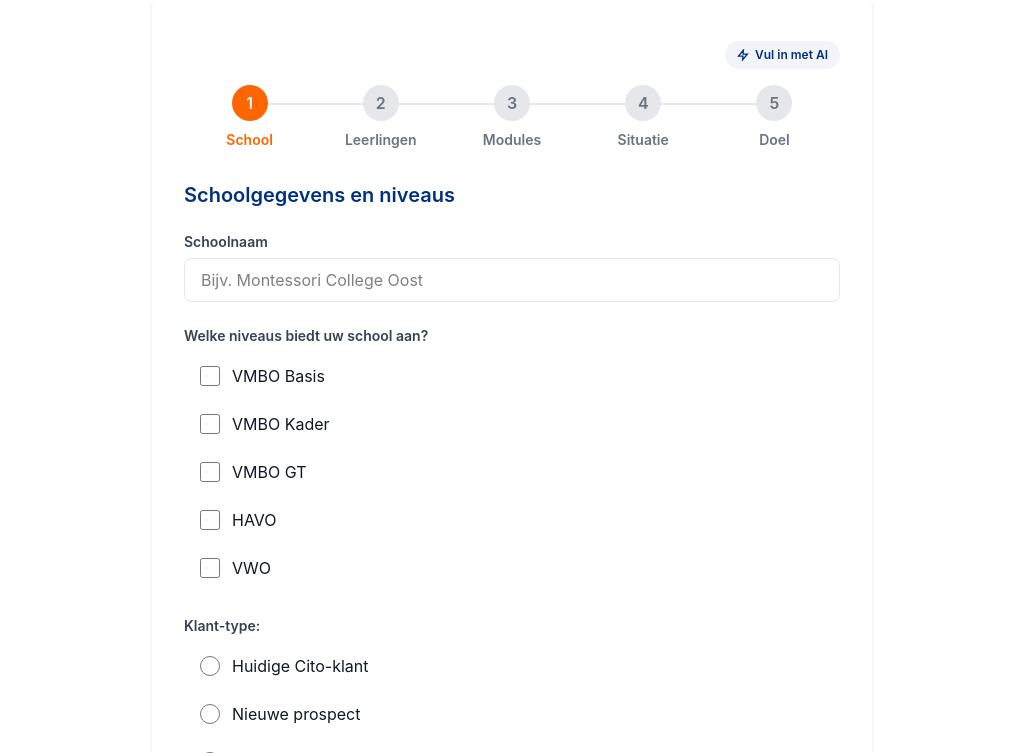
Test: Wizard Navigation › clicking a completed step in the progress bar navigates back
Fill school name
In the field labelled "Schoolnaam": [512, 280] box [184, 258, 840, 302], type "Test School"
Complete step 1: select HAVO + new required fields, then navigate forward.
Click the checkbox labelled "HAVO": [210, 520] box [200, 510, 220, 530]
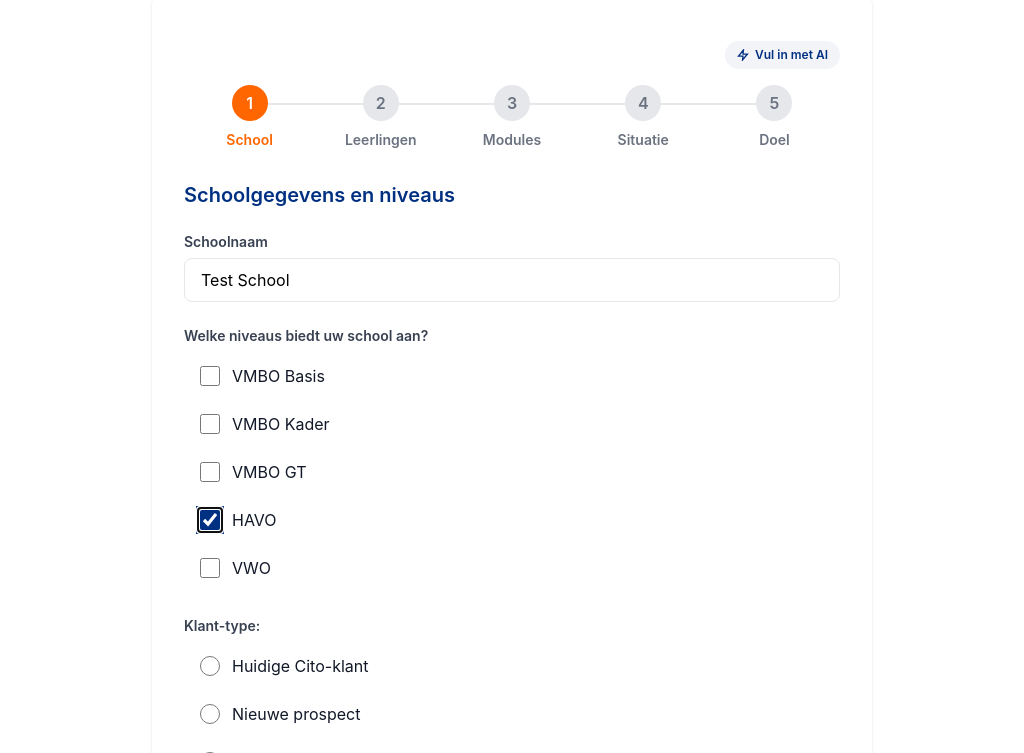
Phase 27 Plan 03 (R3 + R4) — Step 1 has 3 additional required fields.
Click the radio button labelled "Huidige Cito-klant": [210, 666] box [200, 656, 220, 676]
(page scrolled)
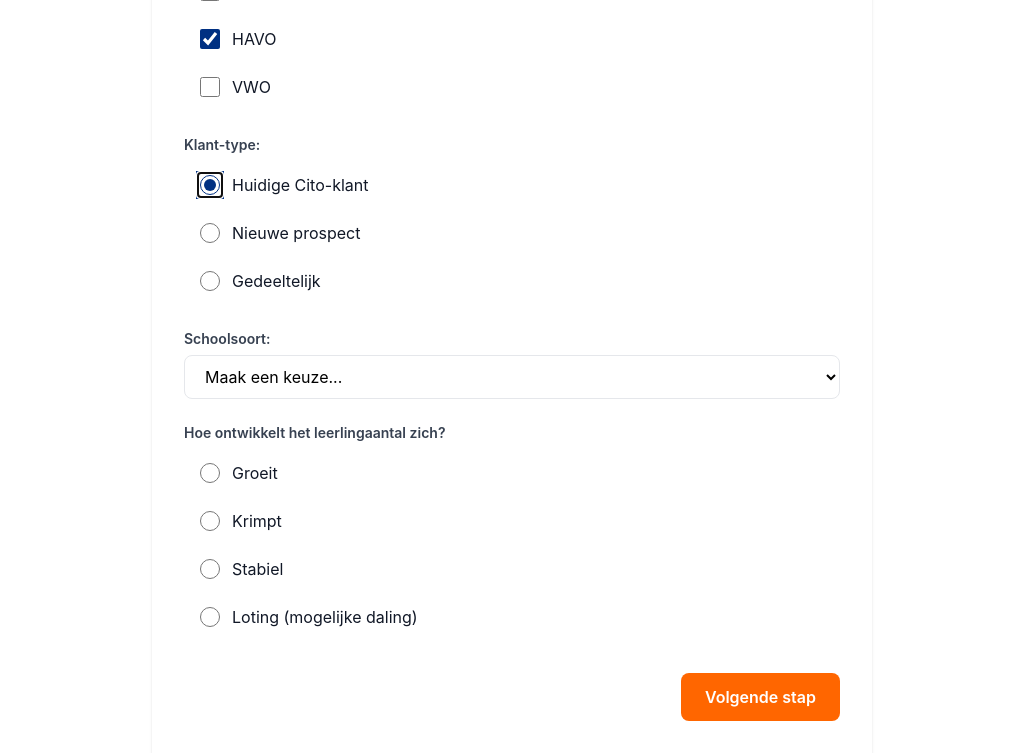
Select "Regulier" in the dropdown labelled "Schoolsoort:": [512, 377] box [184, 355, 840, 399]
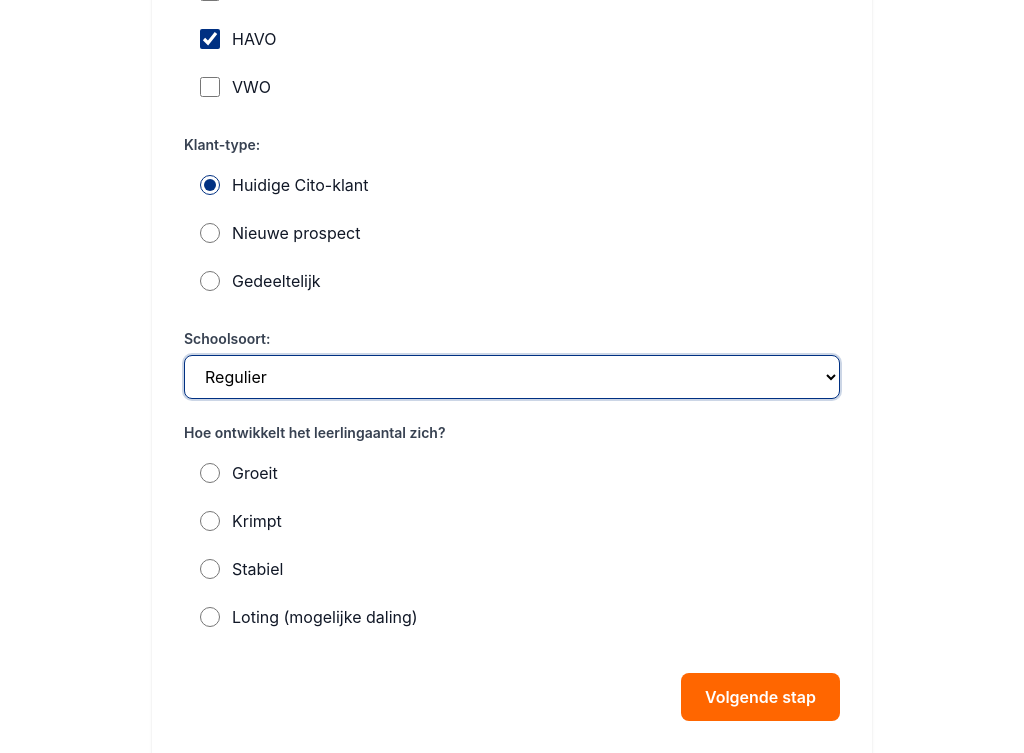
Click the radio button labelled "Groeit": [210, 473] box [200, 463, 220, 483]
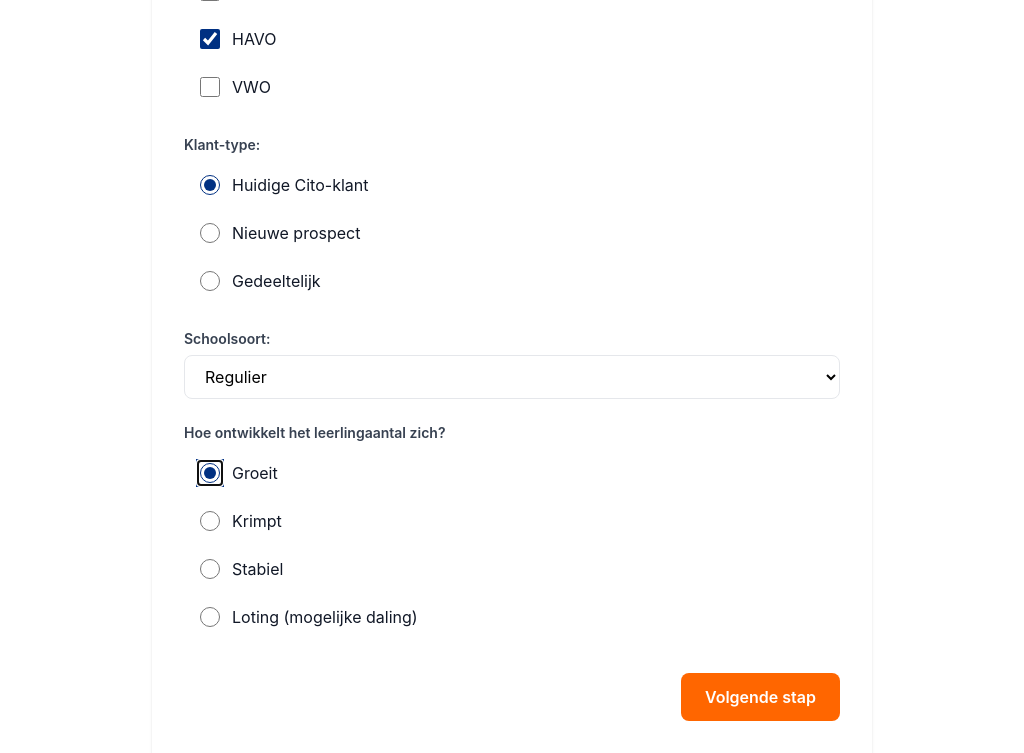
Click the button "Volgende stap": [760, 697] box [681, 673, 840, 721]
(page scrolled)
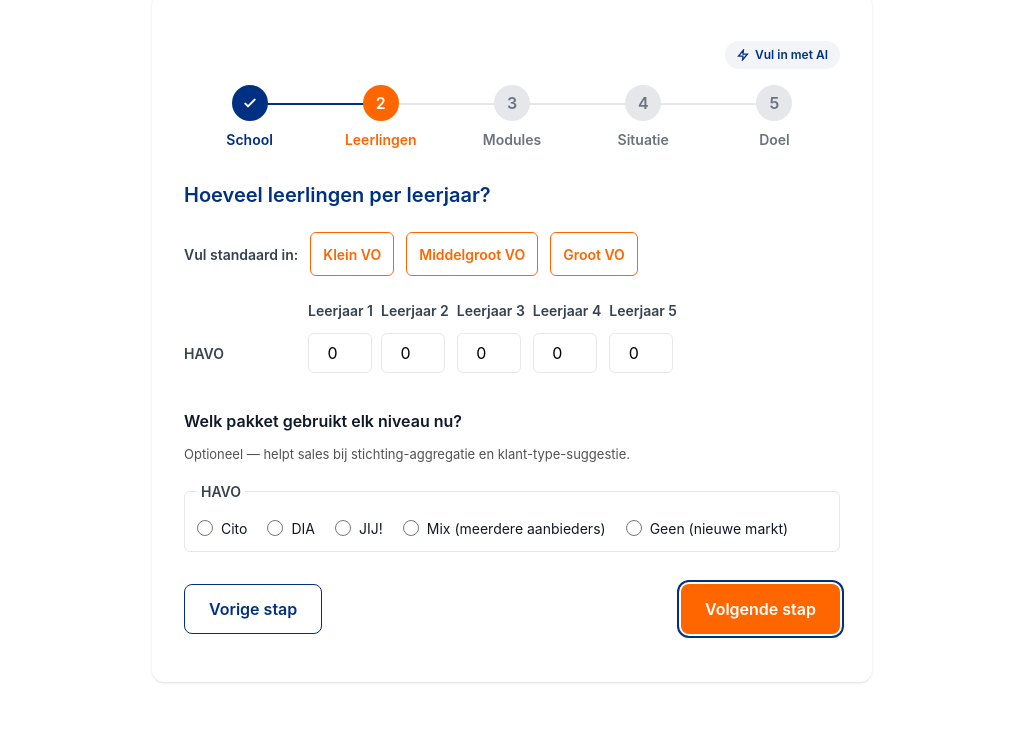
Check: the heading "Hoeveel leerlingen per leerjaar?" is shown, box [184, 183, 491, 207]
Click completed step 1 in progress bar
Click the button named "Stap 1: School (voltooid)": [250, 103] box [232, 85, 268, 121]
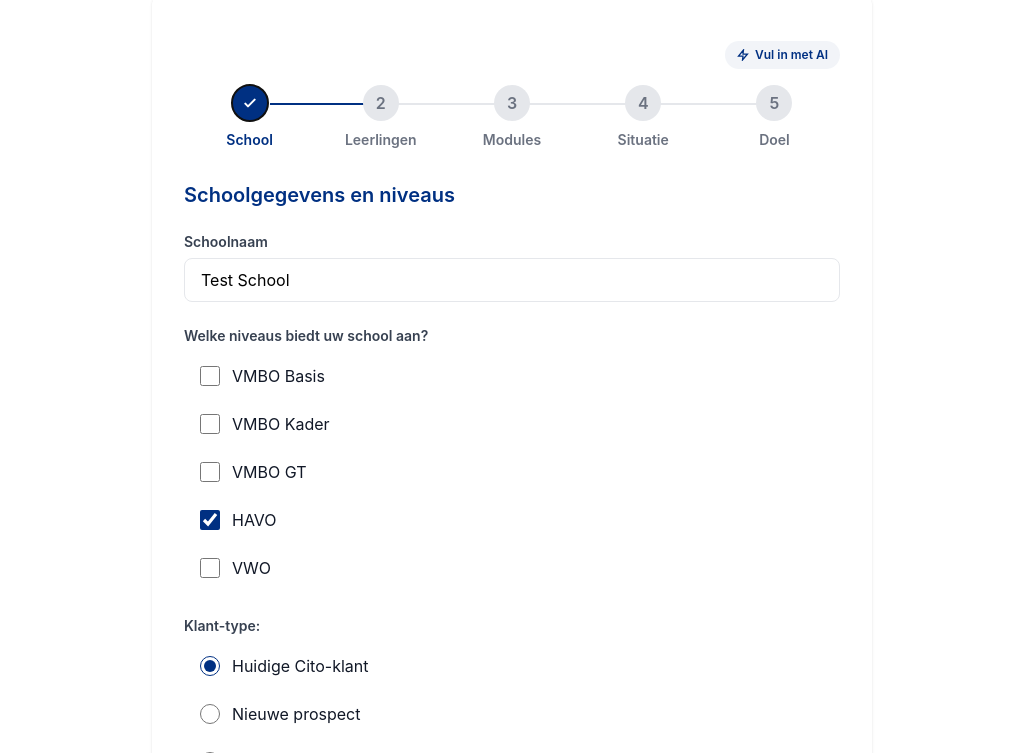
Check: the heading "Schoolgegevens en niveaus" is shown, box [184, 183, 455, 207]
